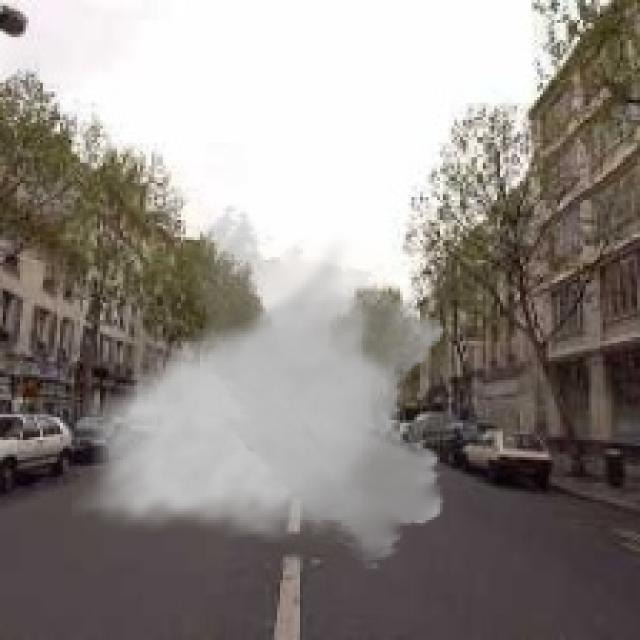Smoke: (72, 203, 454, 572)
